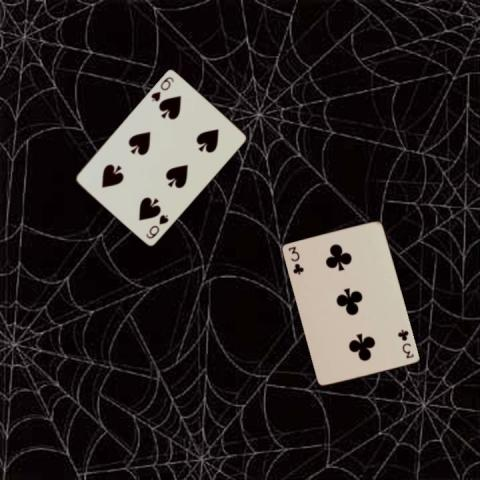3c: (395, 327, 415, 360), (285, 243, 305, 276)
6s: (148, 73, 175, 103), (143, 211, 170, 240)
